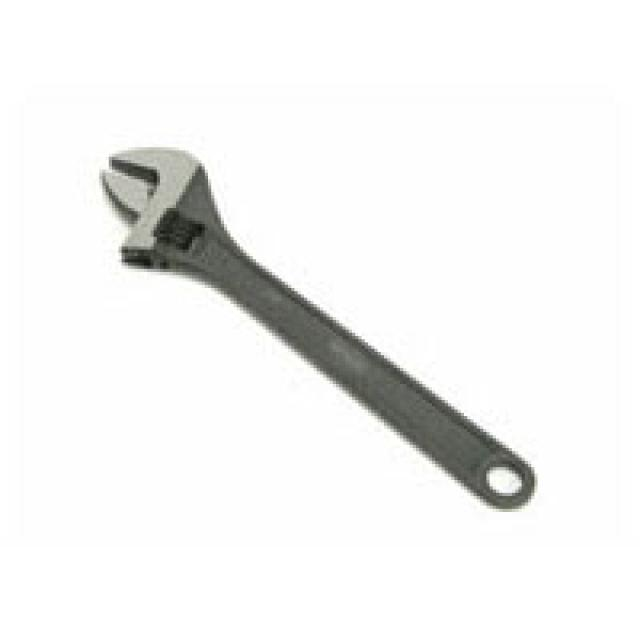wrench: (72, 121, 560, 512)
